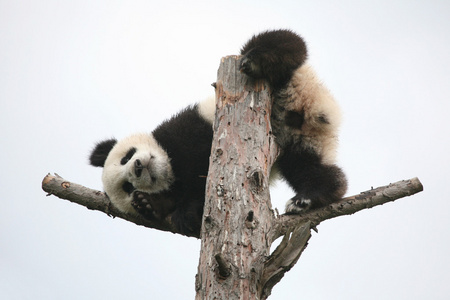panda: (82, 27, 356, 230)
